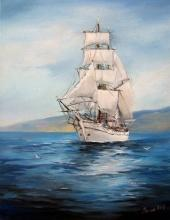fanchuan: (54, 24, 139, 143)
